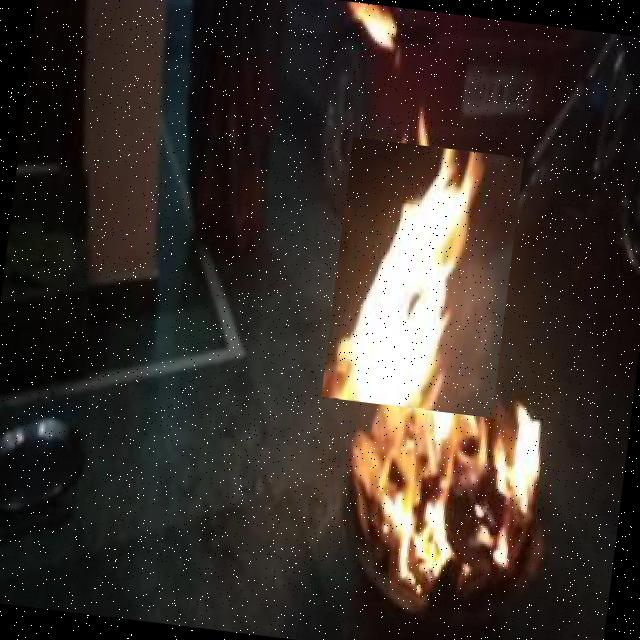fire: (321, 136, 524, 418)
